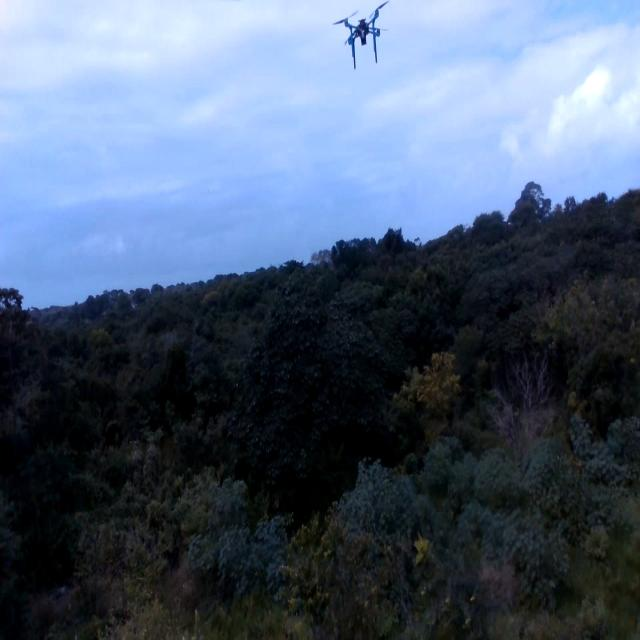-uav-: (332, 3, 396, 68)
